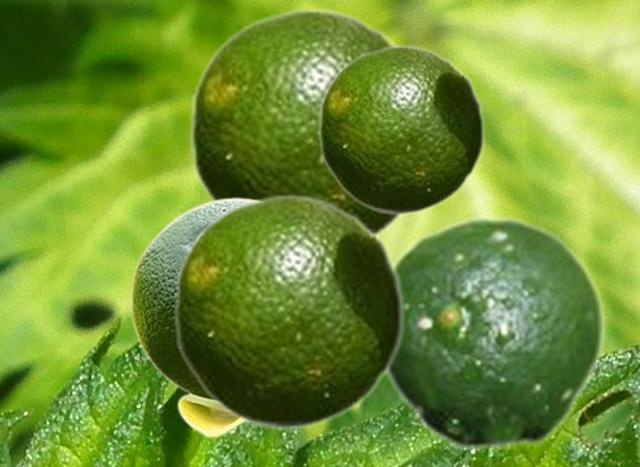calamansi: (172, 193, 405, 429), (382, 215, 606, 451), (188, 7, 408, 236), (130, 197, 258, 437), (317, 44, 485, 214)
